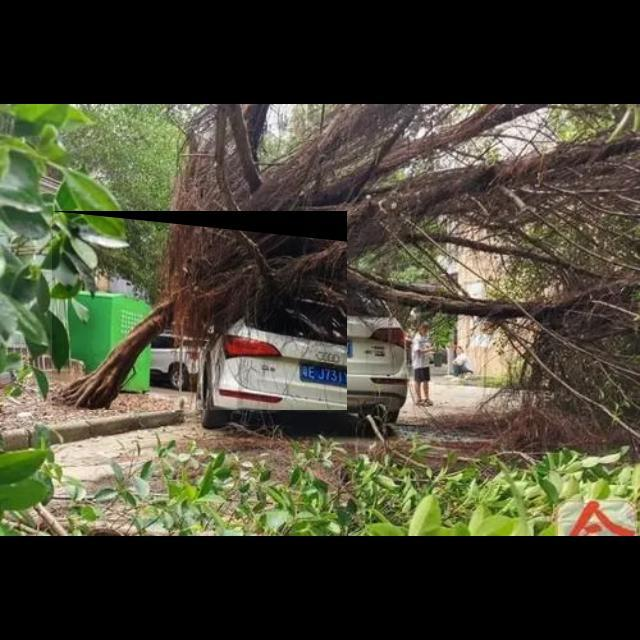fallen_tree: (52, 211, 348, 411)
